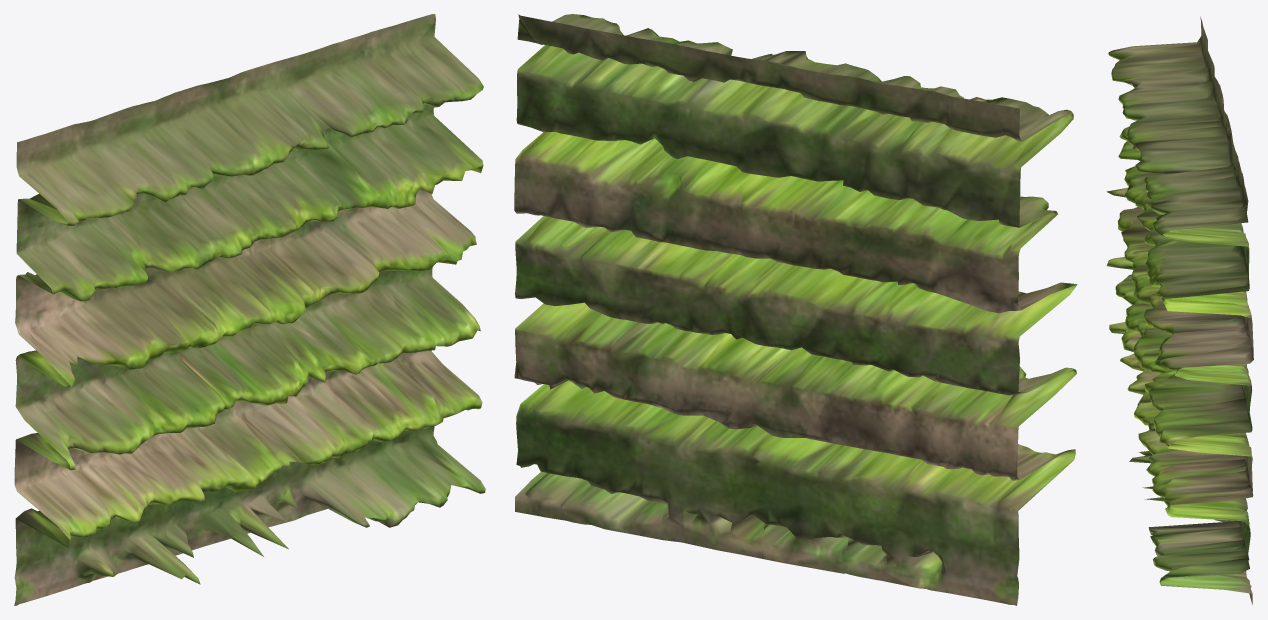
File: map_160_60.obj
3 views of the same model, side by side, from view 1: azimuth 30°, elevation 25°; view 2: azimuth 150°, elevation 25°; view 3: azimuth 270°, elevation 25° (orthographic). The views are drawn at different scales.
Bounding box in the file's own units: 10 × 10 × 3.32.
Materials: 1 (1 with a texture image).
